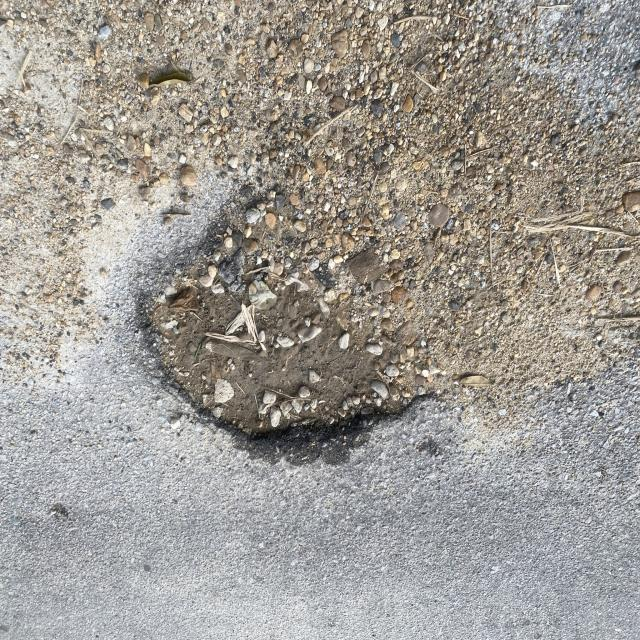pothole: (98, 212, 520, 506)
